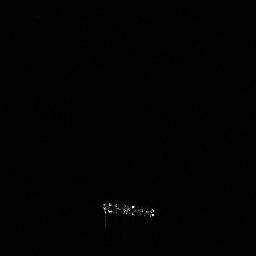ship: (96, 197, 159, 229)
